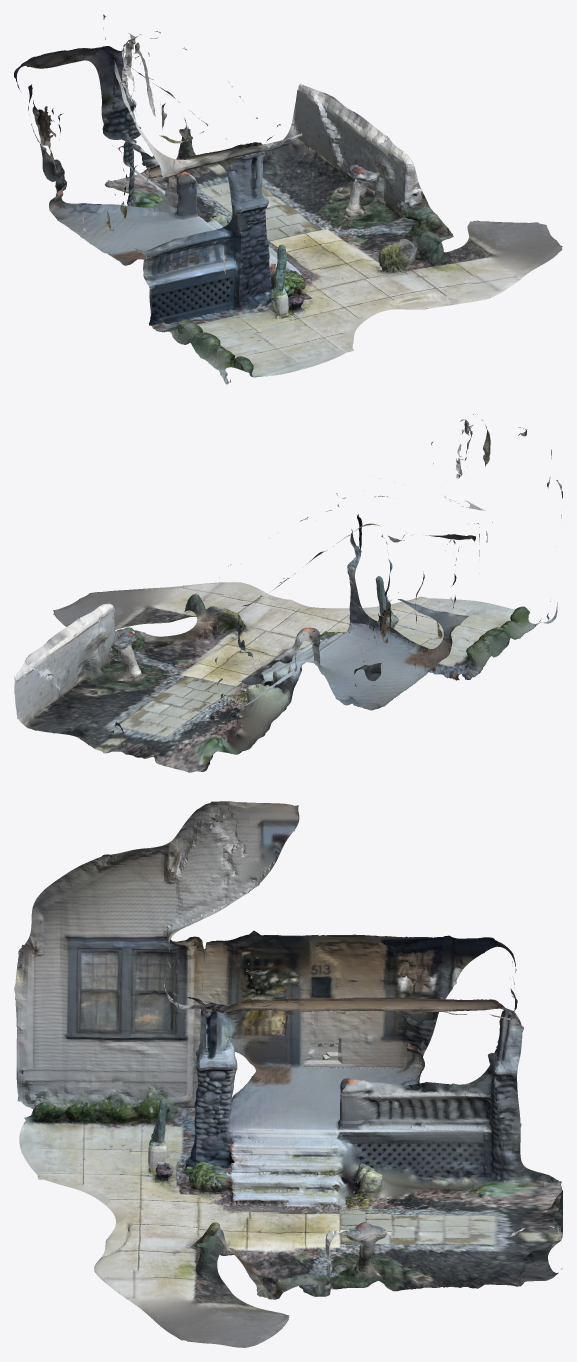
File: raw.gltf
3 renders of one model, top to bottom at view 1: azimuth 30°, elevation 25°; view 2: azimuth 150°, elevation 25°; view 3: azimuth 270°, elevation 25°, orthographic. The views are drawn at different scales.
Bounding box in the file's own units: 8.43 × 5.58 × 8.58.
Materials: 1 (1 with a texture image).
